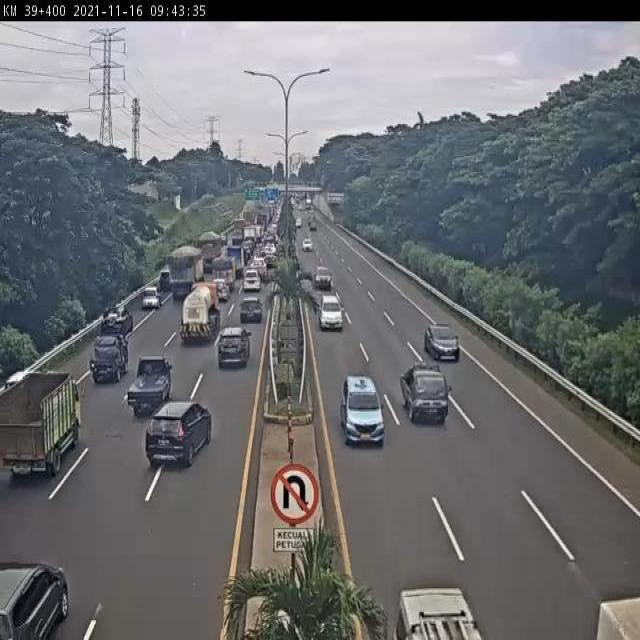car: (144, 399, 212, 471), (399, 360, 451, 428), (339, 374, 386, 446), (128, 353, 174, 415), (90, 332, 131, 384), (215, 327, 249, 377), (426, 323, 461, 361), (101, 305, 135, 339), (319, 295, 344, 328), (237, 296, 263, 327), (138, 285, 162, 315), (151, 269, 175, 295), (208, 281, 229, 308), (242, 271, 259, 295)
truck: (0, 376, 79, 488), (174, 279, 223, 349), (164, 245, 205, 307)
